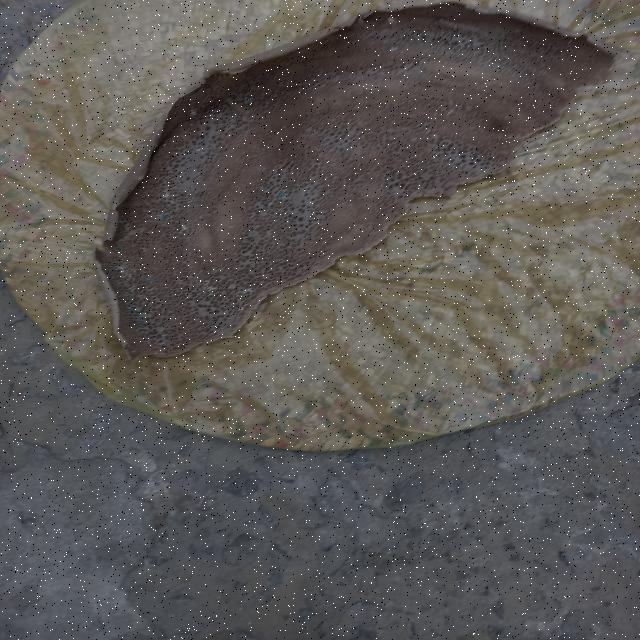injera_mold: (115, 264, 138, 280), (200, 278, 219, 296), (235, 287, 255, 296), (156, 213, 172, 224), (276, 189, 289, 199), (189, 108, 198, 117), (144, 276, 155, 283), (161, 189, 170, 197), (130, 307, 140, 314), (114, 243, 122, 251), (137, 316, 146, 323), (244, 97, 253, 104), (265, 202, 274, 208), (260, 187, 270, 192), (124, 292, 132, 298), (181, 225, 189, 231), (258, 167, 267, 172), (390, 47, 399, 52), (164, 335, 172, 340), (189, 197, 196, 202), (111, 281, 119, 285), (223, 258, 231, 262), (237, 307, 244, 311), (158, 342, 165, 346), (227, 225, 235, 228), (140, 248, 146, 252), (198, 215, 203, 219), (196, 148, 201, 152), (118, 220, 124, 223), (179, 231, 183, 234), (153, 352, 158, 354), (162, 144, 166, 146)
